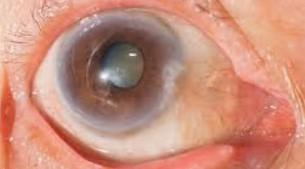eye: (57, 12, 184, 136)
